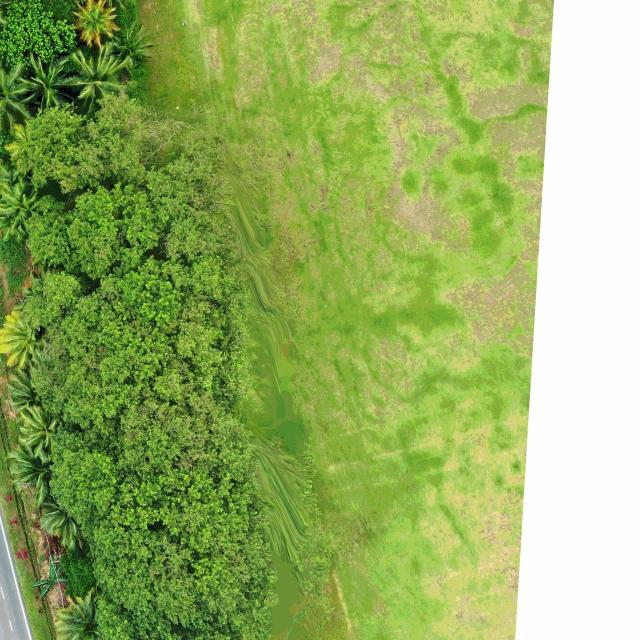Tree: (0, 0, 77, 68), (66, 45, 130, 111), (15, 52, 74, 111), (0, 64, 36, 148), (5, 446, 51, 508), (0, 309, 46, 371), (105, 18, 156, 72), (37, 492, 83, 550), (68, 0, 120, 47), (55, 587, 101, 640), (18, 405, 60, 462), (33, 560, 68, 599)
